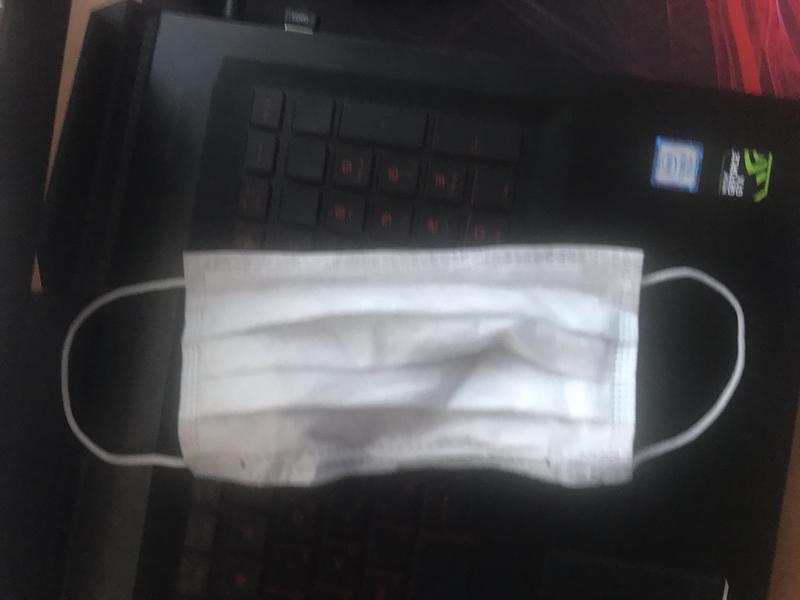medical_mask: (61, 244, 746, 488)
